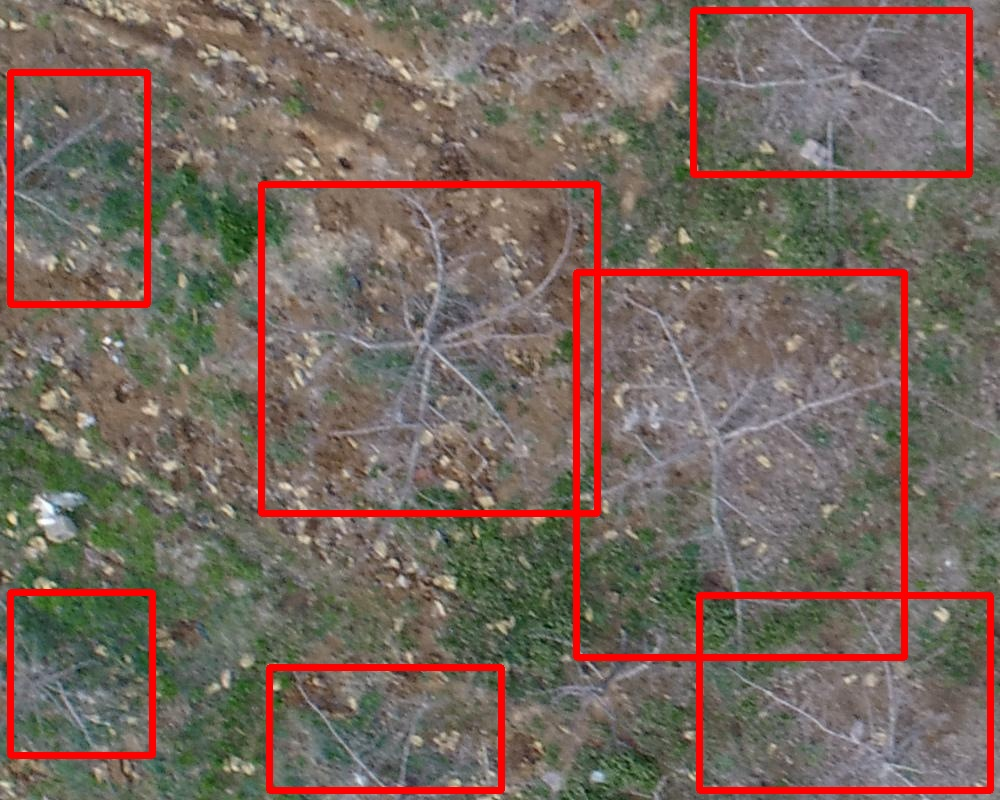apple: (576, 272, 904, 657), (261, 184, 597, 513), (699, 595, 990, 790), (693, 10, 969, 174), (10, 72, 147, 304), (269, 667, 501, 790), (10, 592, 152, 755)
